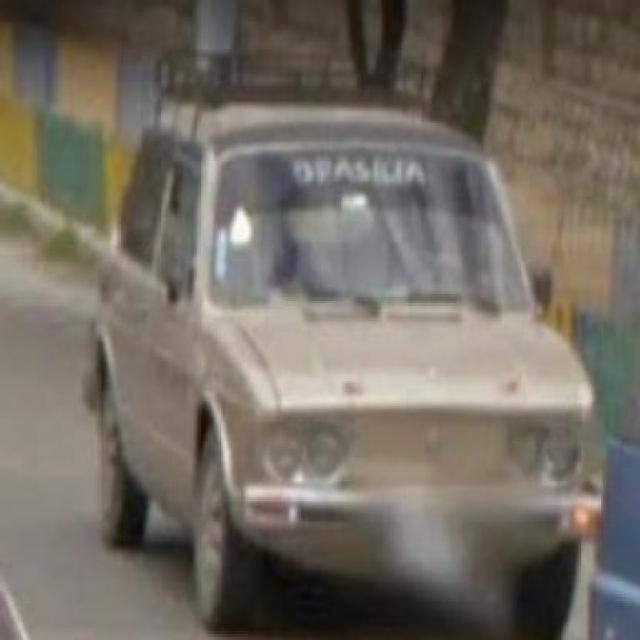car: (79, 70, 604, 632)
